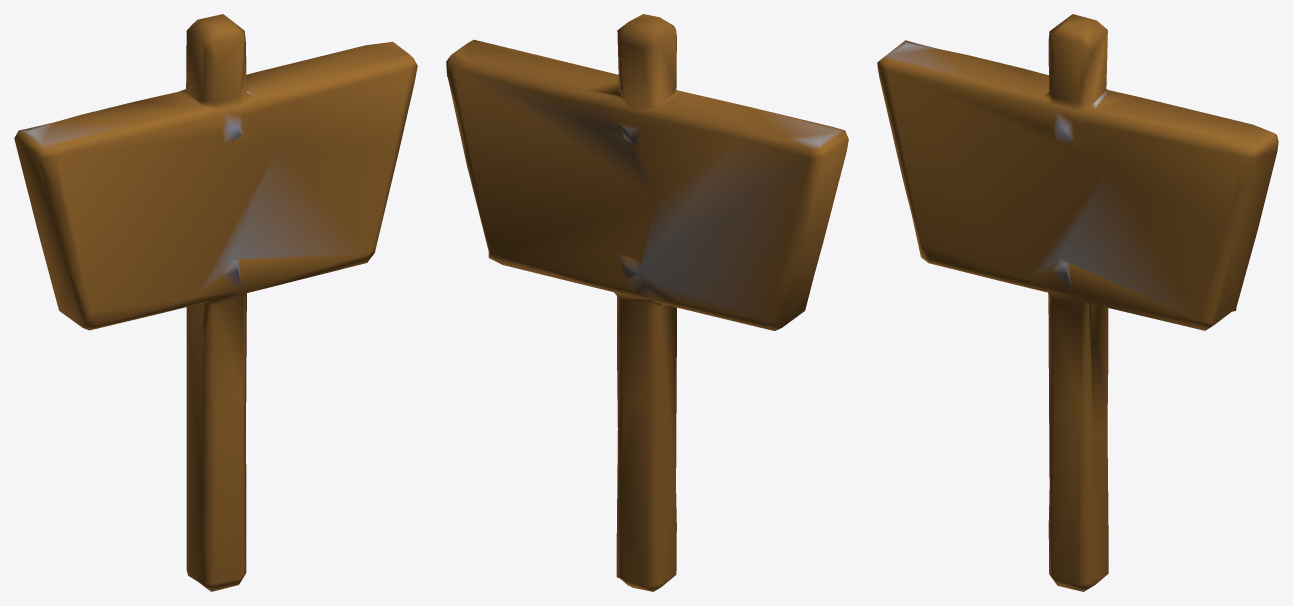
Rendered from gen3d-wooden-signpost-lod1.glb.
3 renders of one model, left to right at view 1: azimuth 30°, elevation 25°; view 2: azimuth 150°, elevation 25°; view 3: azimuth 330°, elevation 25°, orthographic.
Parts seen in each view (by area): view 1: part_0; view 2: part_0; view 3: part_0.
Boxes of the visible parts, x1,y1,x2,y2 form: part_0: (14, 14, 417, 591); part_0: (446, 14, 848, 591); part_0: (877, 14, 1278, 591).
Size of the model in its own units: 0.7094 by 0.9999 by 0.1131.
